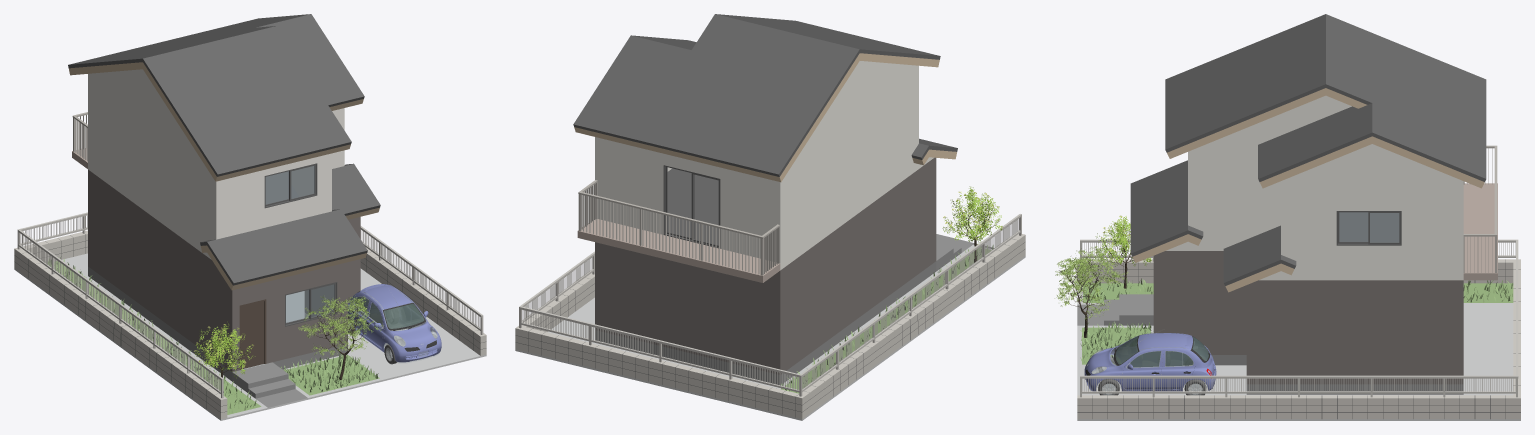
File: normal_house.glb
3 renders of one model, left to right at view 1: azimuth 30°, elevation 25°; view 2: azimuth 150°, elevation 25°; view 3: azimuth 270°, elevation 25°, orthographic. The views are drawn at different scales.
Parts seen in each view (by area): view 1: 40㎡立体モデル; view 2: 40㎡立体モデル; view 3: 40㎡立体モデル.
Boxes of the visible parts, bbox=[...] form: 40㎡立体モデル: bbox=[14, 14, 486, 420]; 40㎡立体モデル: bbox=[515, 14, 1025, 420]; 40㎡立体モデル: bbox=[1054, 14, 1520, 420].
Bounding box in the file's own units: 8.63 × 8.3 × 12.2.
27 materials, 1 textured.
